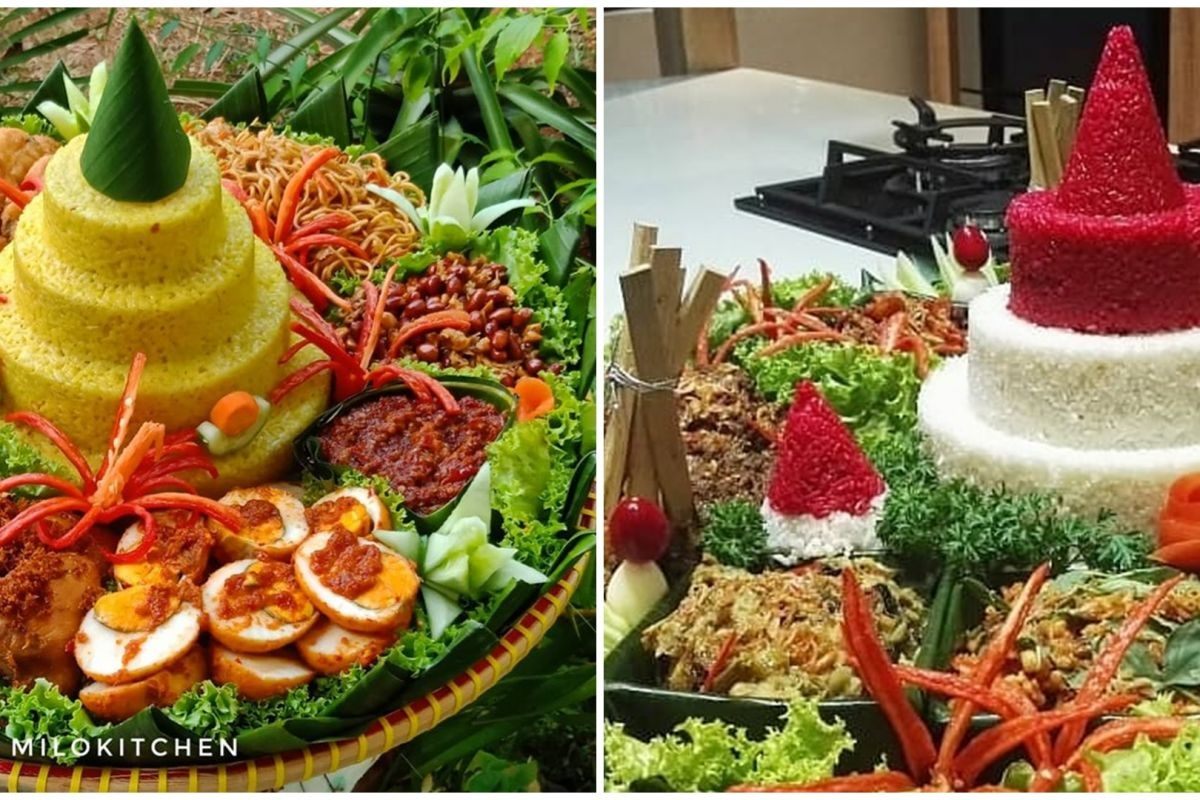tumpeng: (30, 21, 249, 275)
